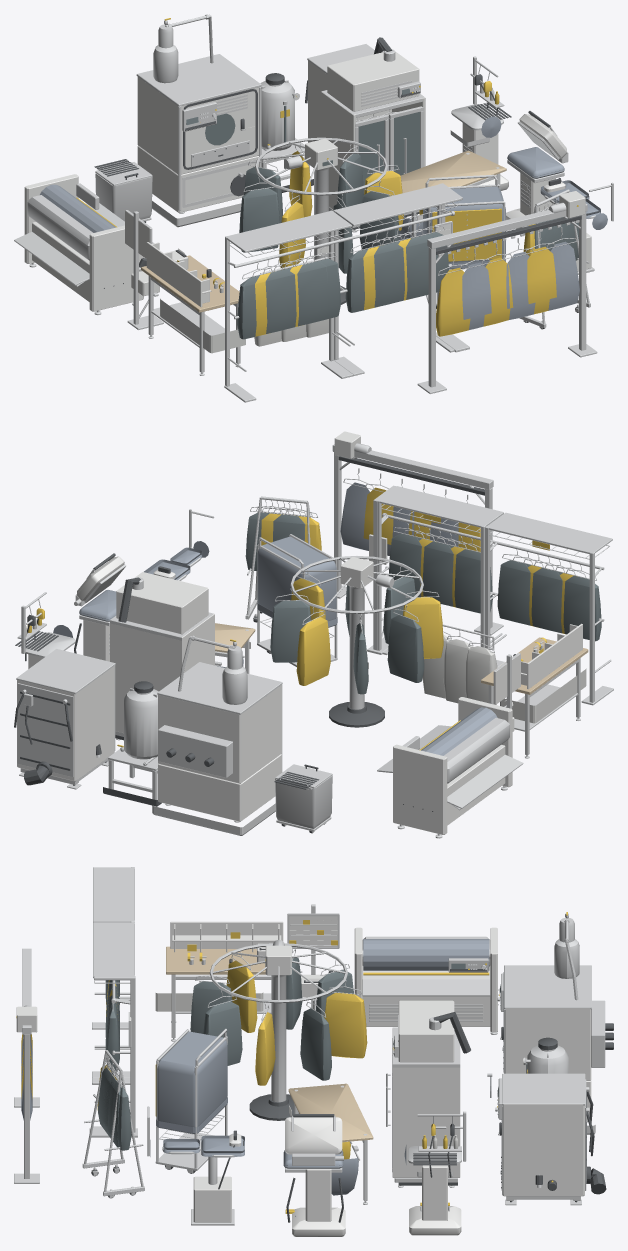
File: laundrette-and-cleaning-dry-cleaning-back-area-baca9d16__25651.glb
3 views of the same model, one above another, from view 1: azimuth 30°, elevation 25°; view 2: azimuth 150°, elevation 25°; view 3: azimuth 270°, elevation 25° (orthographic). The views are drawn at different scales.
Visible parts, largest first — view 1: 000-dry-cleaning-machine/0, 000-dry-cleaning-machine/1, 008-steamer-cabinet/2, 004-flatwork-ironer/0, 010-hanger-rail-run/0, 010-hanger-rail-run/1, 019-garment-conveyor-rail/0, 009-garment-carousel/4, 019-garment-conveyor-rail/3, 011-hanger-rail-run/1, 019-garment-conveyor-rail/4, 011-hanger-rail-run/0 (+42 smaller); view 2: 000-dry-cleaning-machine/1, 008-steamer-cabinet/2, 000-dry-cleaning-machine/0, 002-washer-extractor-rigid-mount/0, 004-flatwork-ironer/0, 009-garment-carousel/4, 010-hanger-rail-run/0, 010-hanger-rail-run/1, 011-hanger-rail-run/0, 011-hanger-rail-run/1, 009-garment-carousel/3, 002-washer-extractor-rigid-mount/2 (+37 smaller); view 3: 008-steamer-cabinet/2, 002-washer-extractor-rigid-mount/2, 009-garment-carousel/4, 000-dry-cleaning-machine/0, 016-linen-trolley-covered/2, 009-garment-carousel/3, 000-dry-cleaning-machine/1, 004-flatwork-ironer/2, 004-flatwork-ironer/0, 009-garment-carousel/1, 002-washer-extractor-rigid-mount/0, 004-flatwork-ironer/3 (+33 smaller).
Boxes of the visible parts, x1,y1,x2,y2 form: 000-dry-cleaning-machine/0: (136,14,261,227); 000-dry-cleaning-machine/1: (137,77,259,212); 008-steamer-cabinet/2: (321,51,425,209); 004-flatwork-ironer/0: (24,174,143,311); 010-hanger-rail-run/0: (224,210,353,402); 010-hanger-rail-run/1: (237,258,340,339); 019-garment-conveyor-rail/0: (417,202,597,393); 009-garment-carousel/4: (239,153,399,273); 019-garment-conveyor-rail/3: (436,205,578,336); 011-hanger-rail-run/1: (345,232,448,312); 019-garment-conveyor-rail/4: (462,241,579,329); 011-hanger-rail-run/0: (333,184,460,376); 000-dry-cleaning-machine/1: (158,685,281,821); 008-steamer-cabinet/2: (110,572,214,733); 000-dry-cleaning-machine/0: (152,635,282,835); 002-washer-extractor-rigid-mount/0: (16,649,115,789); 004-flatwork-ironer/0: (393,697,512,834); 009-garment-carousel/4: (270,577,424,694); 010-hanger-rail-run/0: (485,512,613,705); 010-hanger-rail-run/1: (497,560,601,641); 011-hanger-rail-run/0: (377,486,504,667); 011-hanger-rail-run/1: (388,533,492,613); 009-garment-carousel/3: (291,578,443,685); 002-washer-extractor-rigid-mount/2: (17,666,114,781); 008-steamer-cabinet/2: (392,1000,460,1177); 002-washer-extractor-rigid-mount/2: (502,1104,584,1196); 009-garment-carousel/4: (190,957,353,1080); 000-dry-cleaning-machine/0: (487,913,605,1134); 016-linen-trolley-covered/2: (156,1031,227,1133); 009-garment-carousel/3: (226,959,367,1085); 000-dry-cleaning-machine/1: (505,1008,591,1110); 004-flatwork-ironer/2: (362,936,497,1034); 004-flatwork-ironer/0: (354,927,497,1032); 009-garment-carousel/1: (195,939,362,1102); 002-washer-extractor-rigid-mount/0: (495,1073,589,1205); 004-flatwork-ironer/3: (363,939,489,970).
Size of the model in its own units: 6.38 by 2.38 by 6.91.
